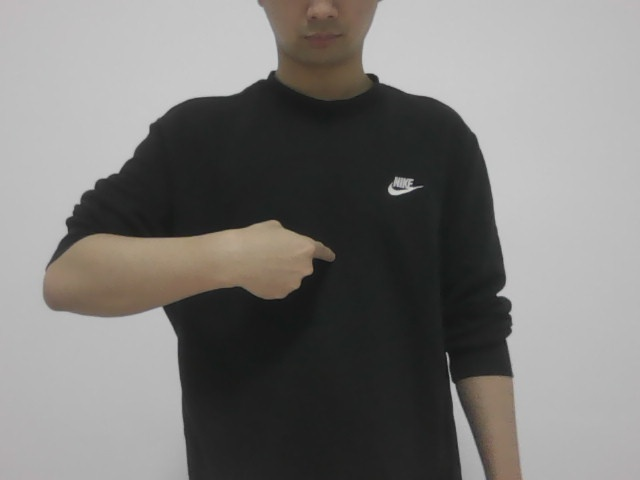I/me: (207, 211, 367, 302)
